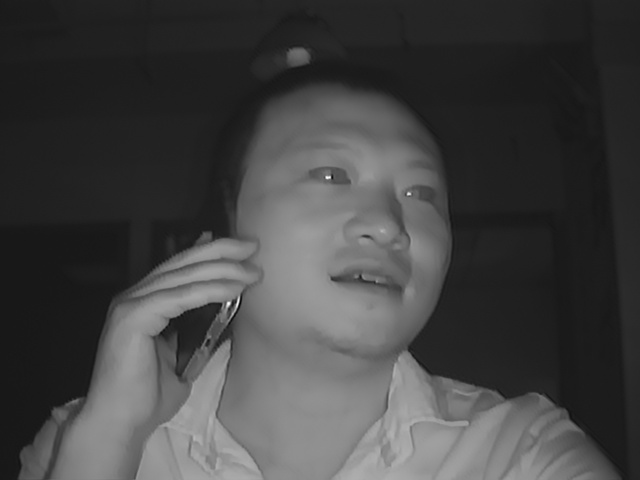hand: (87, 229, 262, 431)
